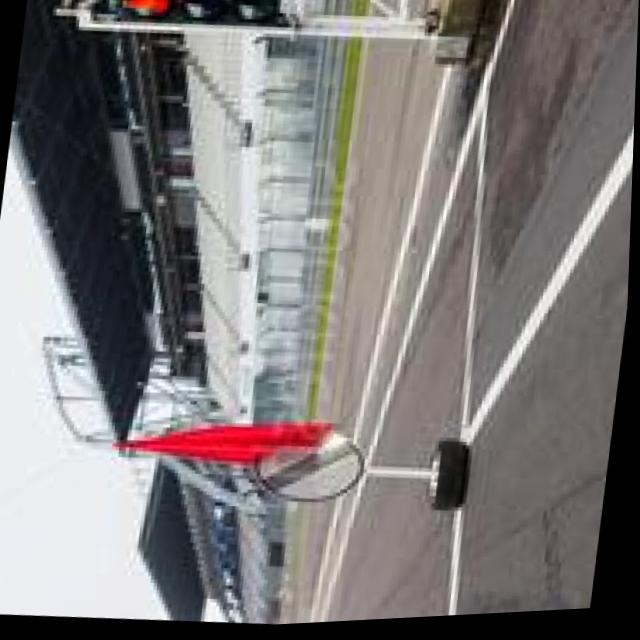red_light: (106, 0, 162, 53)
